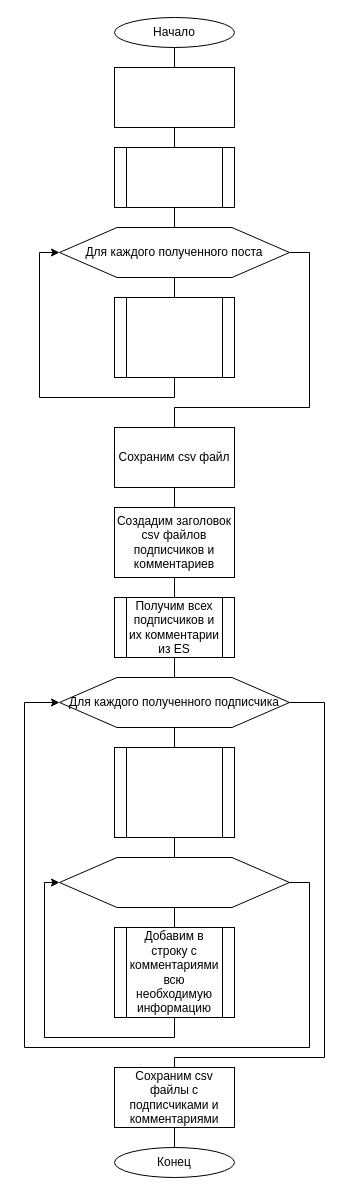
Some shapes in this 343 by 1195 pixel diagram are drawn without their labels. The centre of each missing label's shape, as x and y in pixels:
"Для каждого комментария подписчика" belongs at point 174,882.
"Добавим в строку с подписчиками всю необходимую информацию" belongs at point 174,792.
"Добавим в строку с постами всю необходимую информацию" belongs at point 174,337.
"Получим все посты из ES" belongs at point 174,177.
"Создадим заголовок csv файла" belongs at point 174,97.
